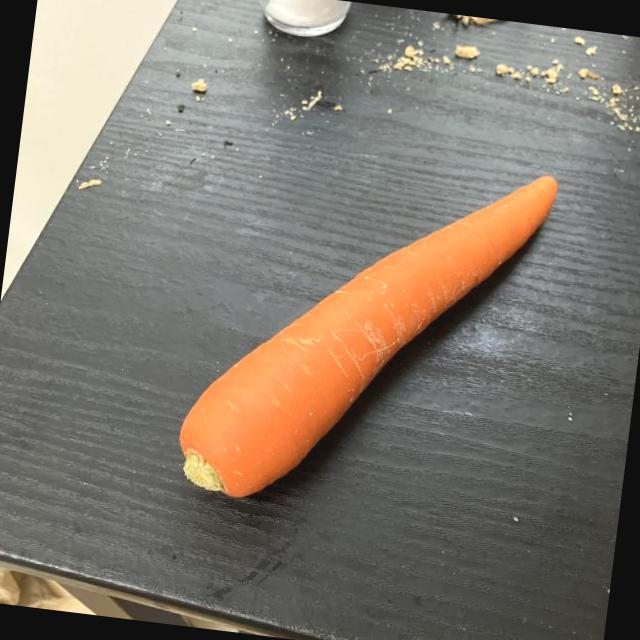carrot: (179, 177, 557, 497)
